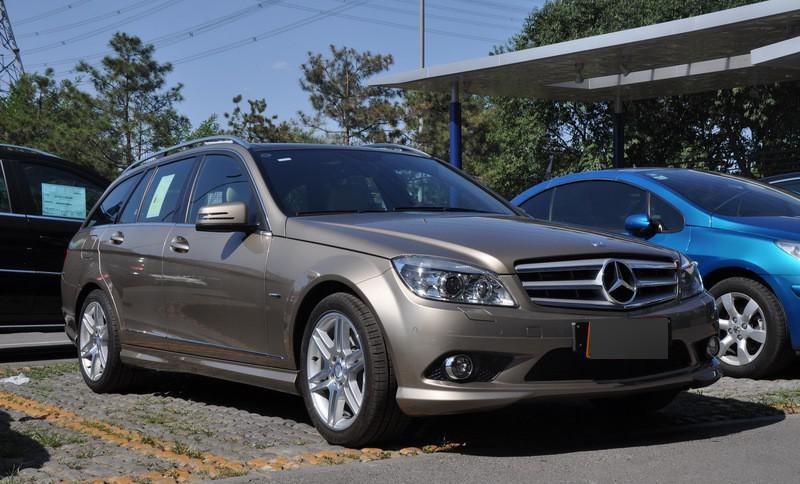Wagon: (60, 133, 724, 447)
